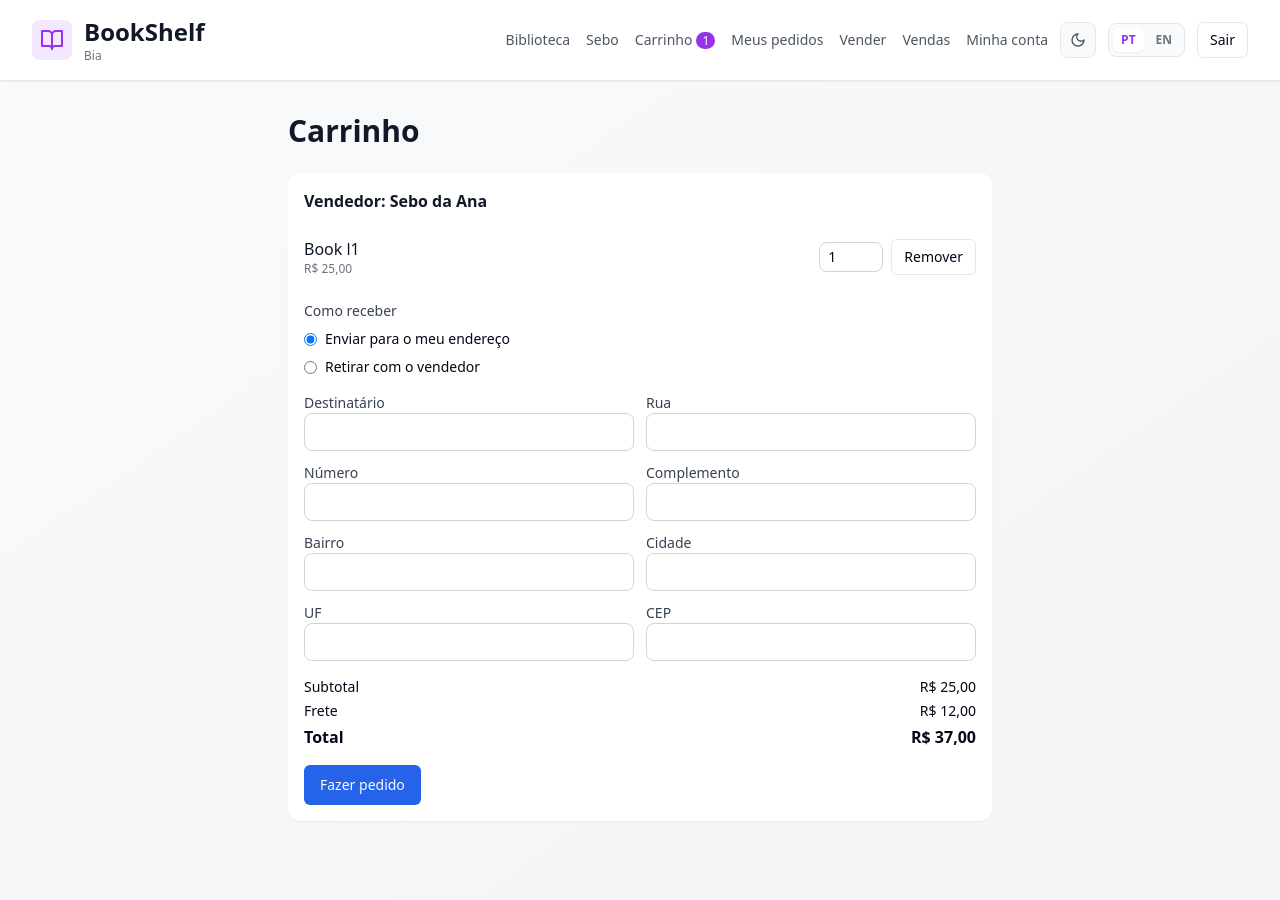
Test: CartPage › drops the shipping fee when picking up
The width and height of the screenshot is (1280, 900).
Click the radio button with test id "cart-method-pickup-seller-1" at (310, 367), box x1=304 y1=360 x2=317 y2=374
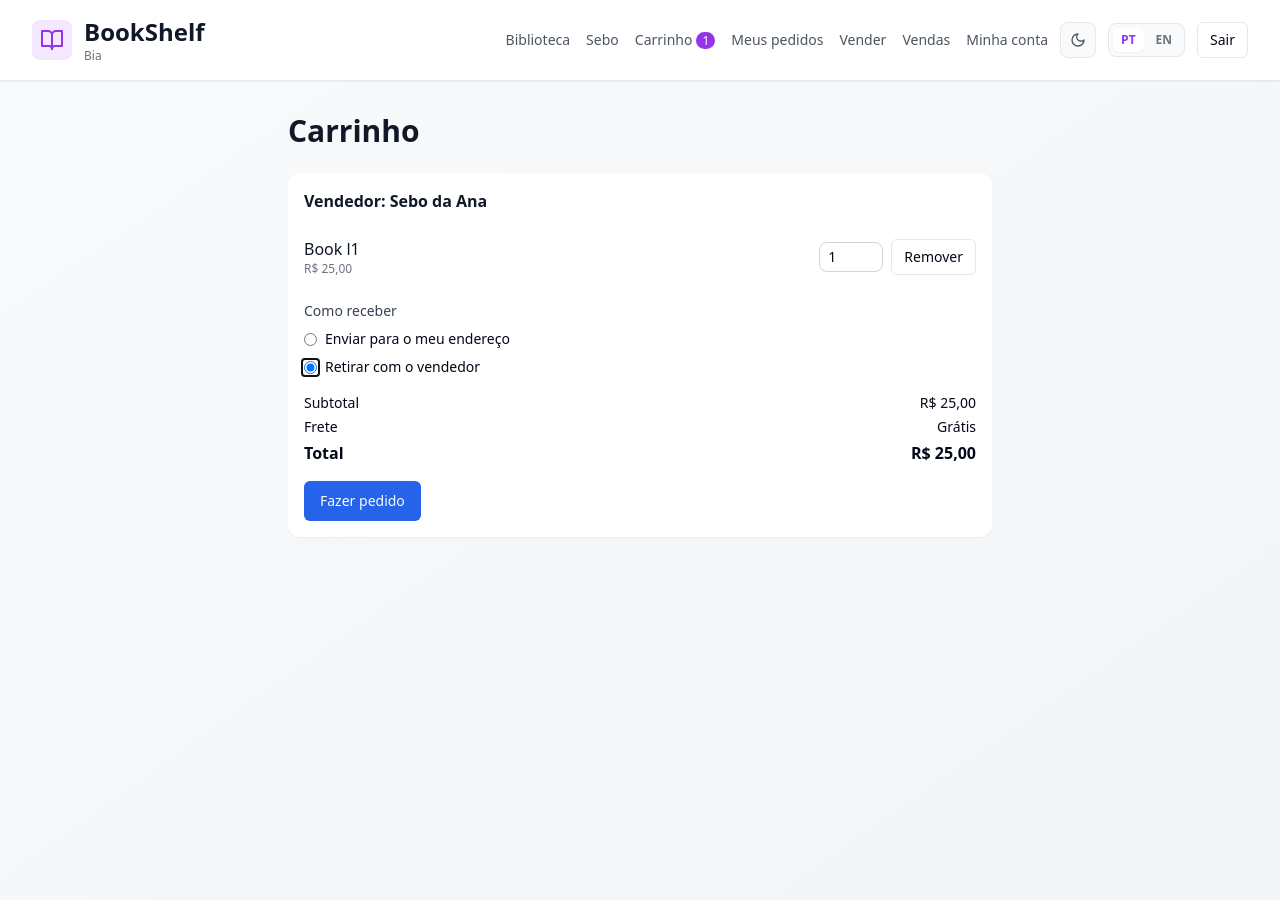
Expected: the text "R$ 25,00" below "Book l1" is shown, x1=304 y1=260 x2=352 y2=277
Expected: the field with test id "address-street-seller-1" is gone
